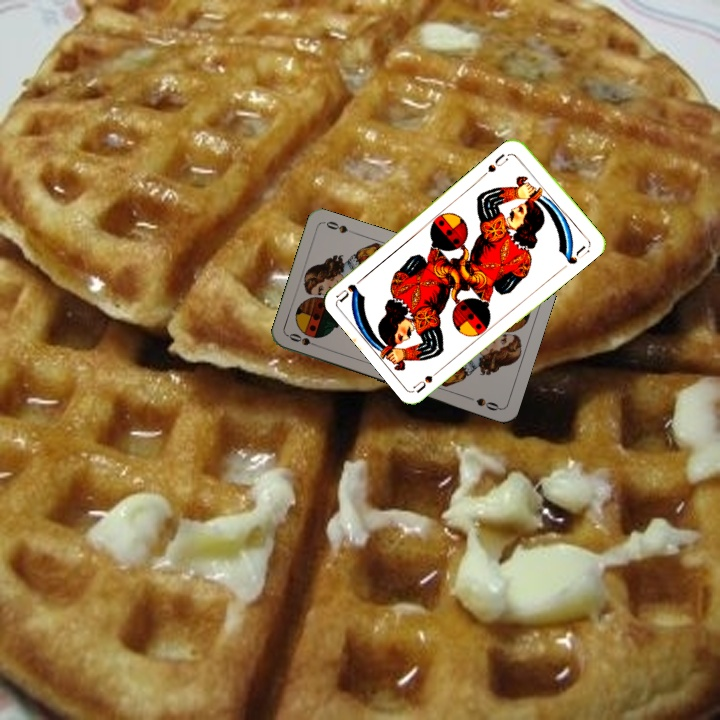SO: (285, 329, 324, 351)
SU: (410, 362, 446, 394), (479, 150, 511, 179)
